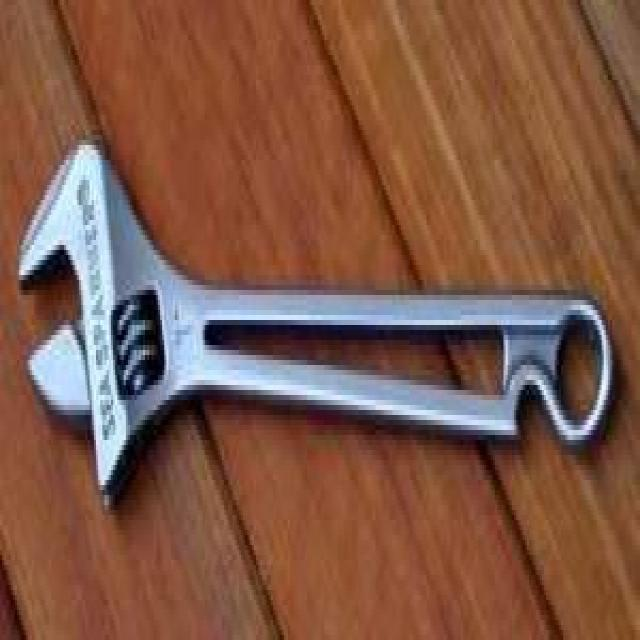wrench: (14, 121, 618, 511)
